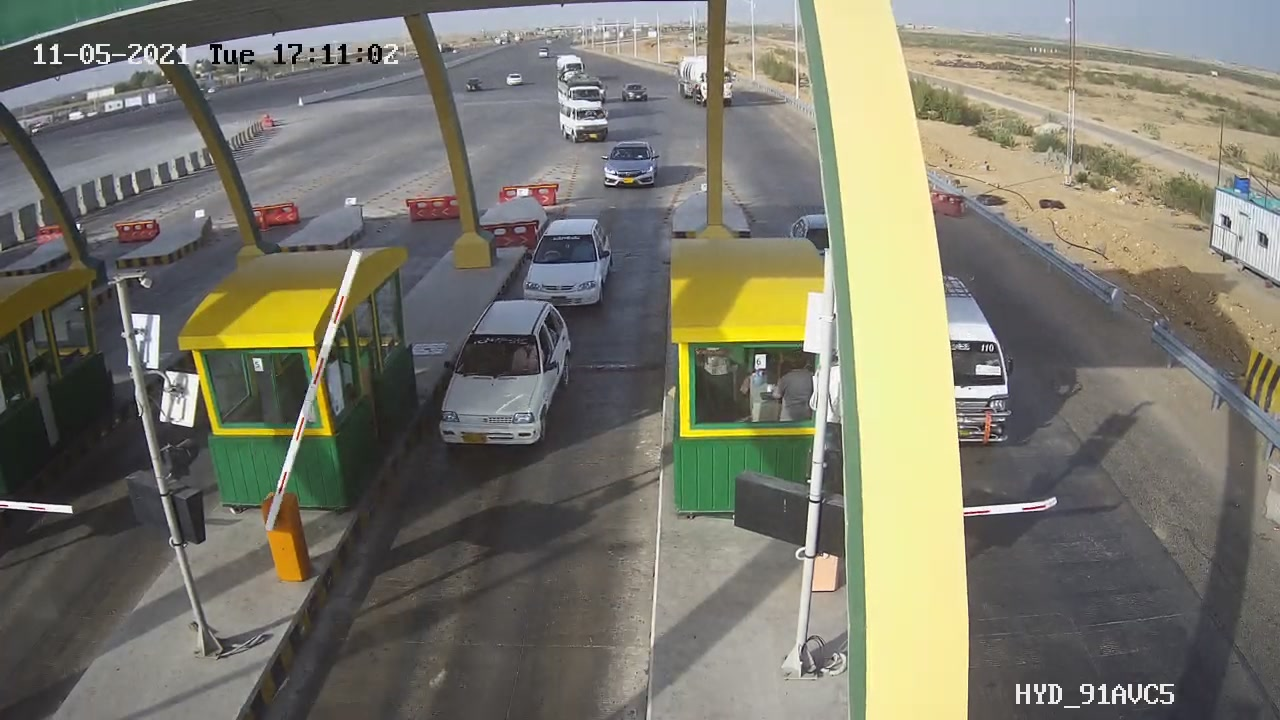F1: (422, 287, 589, 461), (507, 209, 625, 329)
